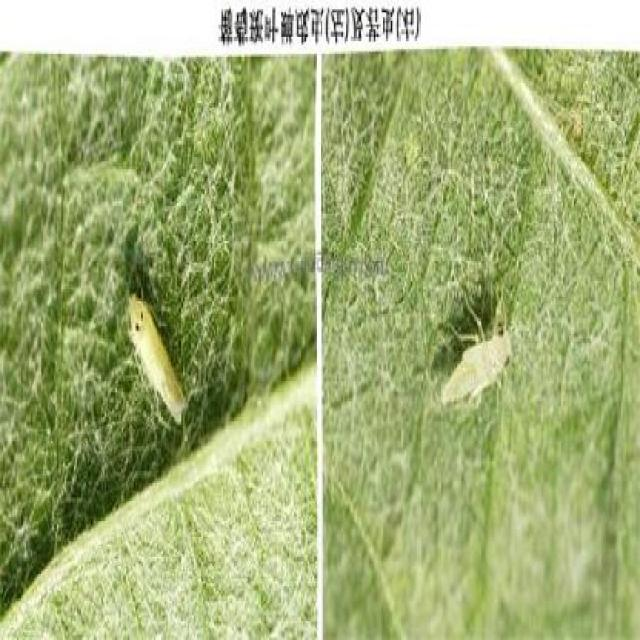green-leafhopper: (440, 286, 515, 417), (124, 277, 188, 423)
